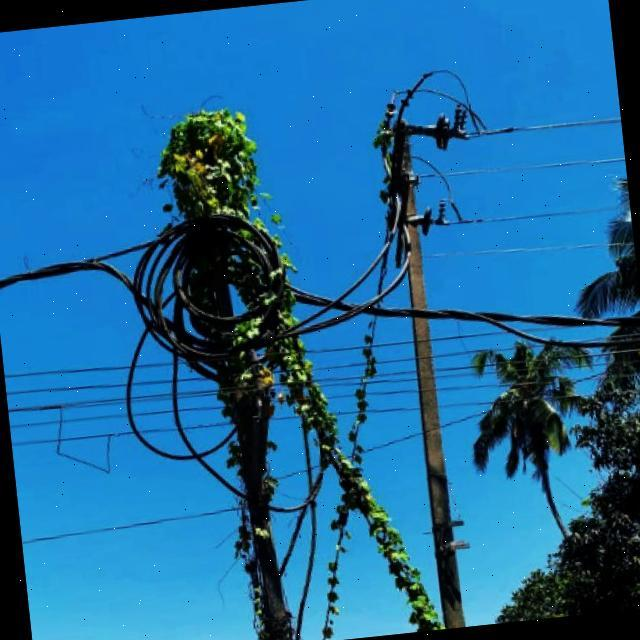critical vegetation: (148, 73, 442, 640)
